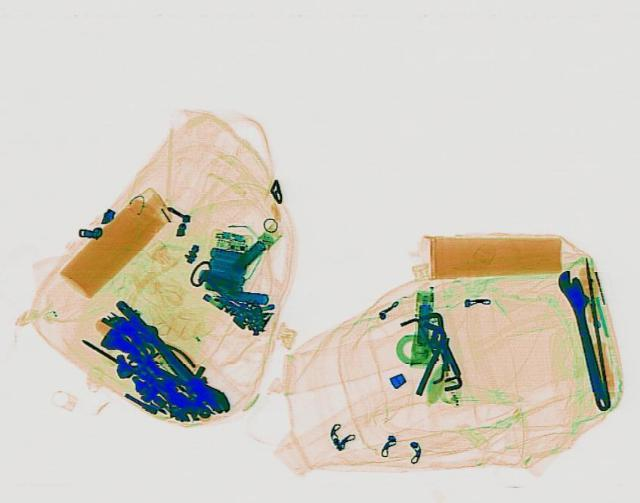Wrench: (103, 294, 237, 419), (556, 268, 616, 410)
